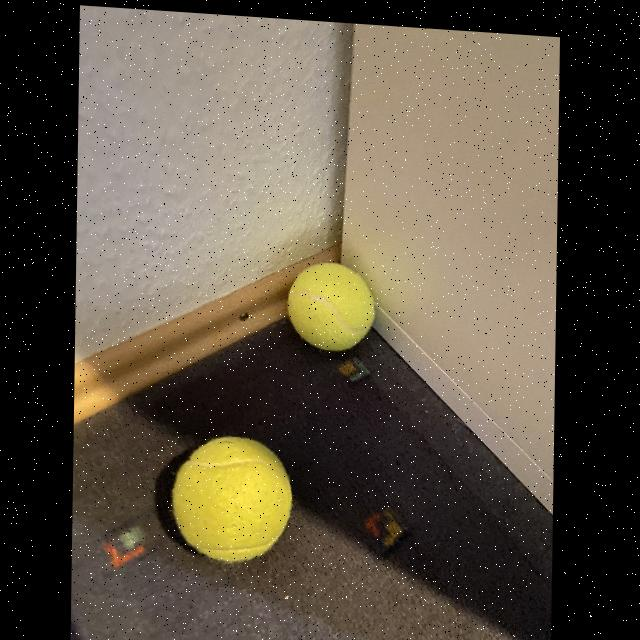Tennisball: (172, 437, 292, 562), (288, 263, 375, 351)
